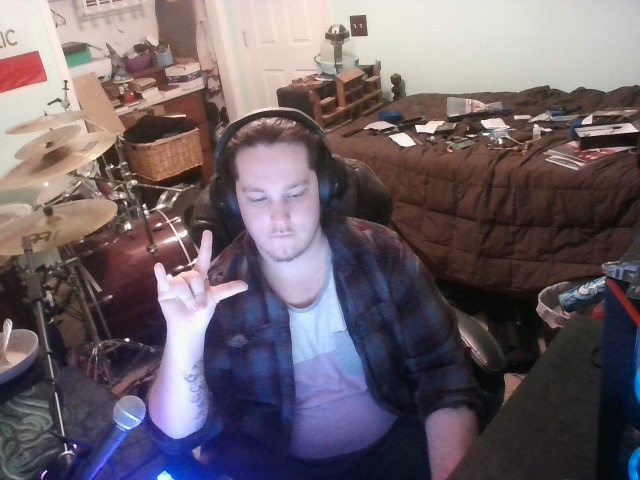i_love_you: (134, 223, 254, 336)
